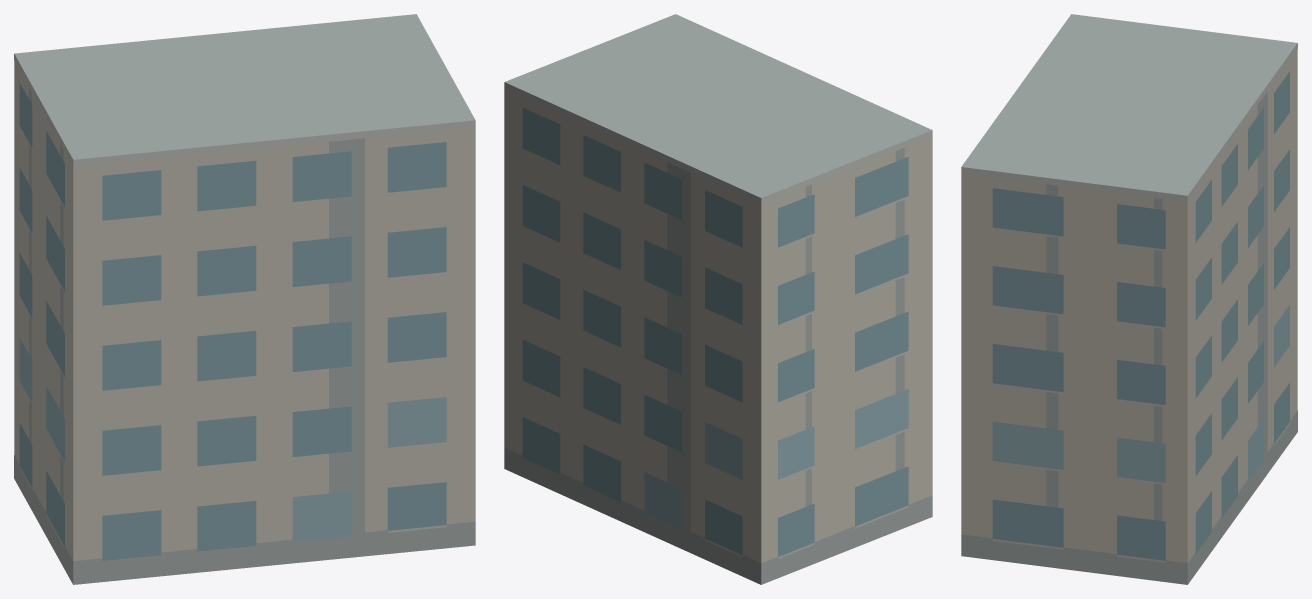
File: survey-upis-32880967.glb
3 views of the same model, side by side, from view 1: azimuth 30°, elevation 25°; view 2: azimuth 150°, elevation 25°; view 3: azimuth 270°, elevation 25° (orthographic). The views are drawn at different scales.
Parts seen in each view (by area): view 1: survey-upis-32880967.tmp; view 2: survey-upis-32880967.tmp; view 3: survey-upis-32880967.tmp.
Part boxes in pixels (x1,y1,x2,y2): survey-upis-32880967.tmp: (14, 14, 475, 584); survey-upis-32880967.tmp: (504, 14, 932, 584); survey-upis-32880967.tmp: (961, 14, 1297, 584).
Size of the model in its own units: 14.78 by 14.75 by 11.57.
